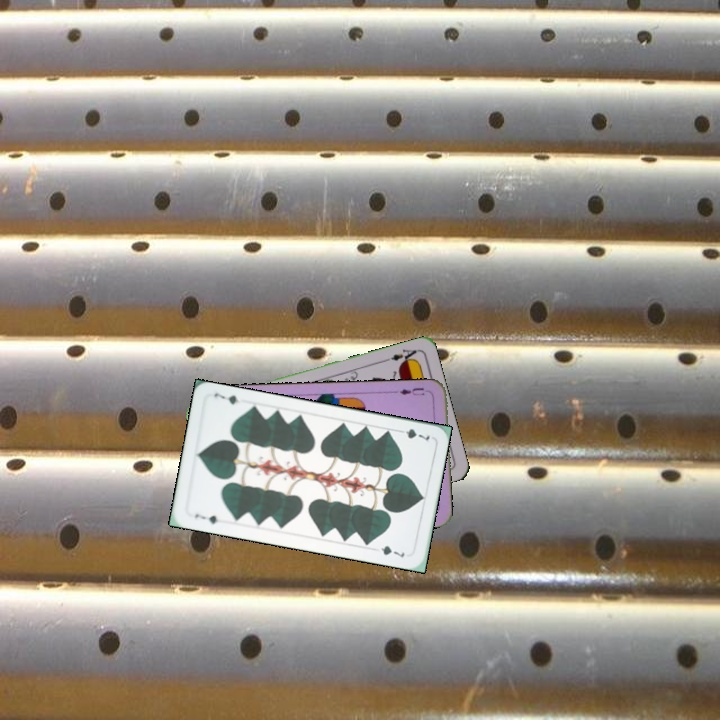EA: (381, 345, 420, 366)
EU: (392, 384, 432, 398)
G7: (393, 424, 432, 443), (191, 510, 221, 527)
